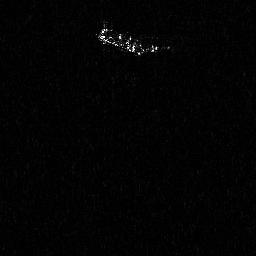ship: (94, 24, 172, 58)
